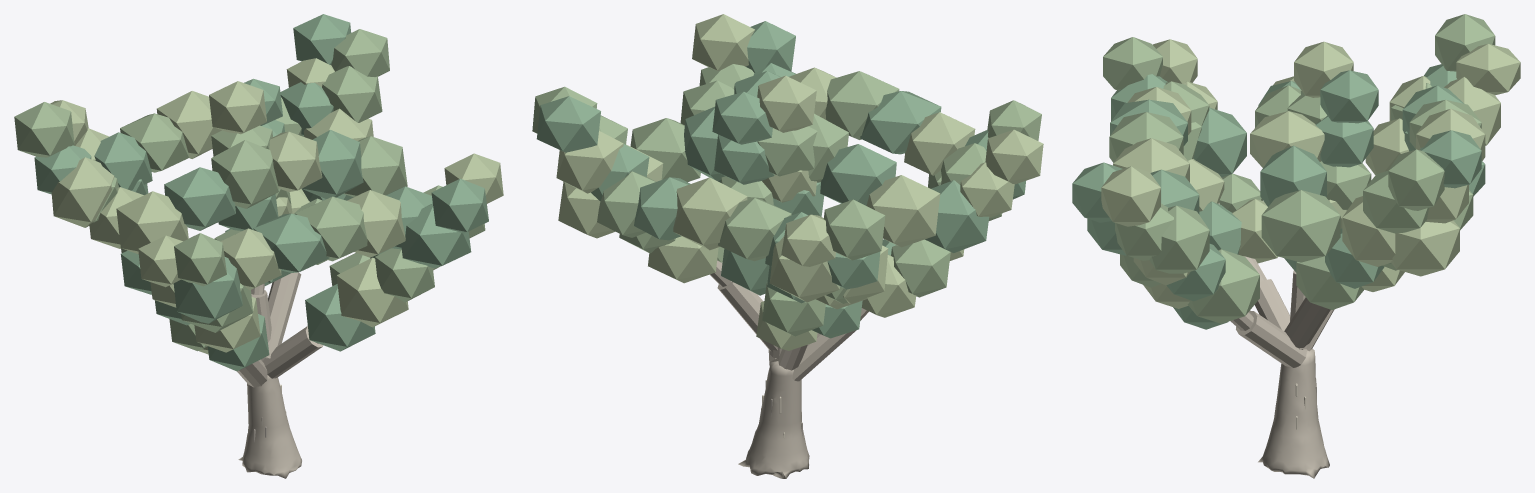
Rendered from plane-tree-c.glb.
3 views of the same model, side by side, from view 1: azimuth 30°, elevation 25°; view 2: azimuth 150°, elevation 25°; view 3: azimuth 270°, elevation 25° (orthographic). The views are drawn at different scales.
Parts seen in each view (by area): view 1: plane-tree-c; view 2: plane-tree-c; view 3: plane-tree-c.
Boxes of the visible parts, x1,y1,x2,y2 form: plane-tree-c: [14, 14, 503, 478]; plane-tree-c: [532, 14, 1043, 478]; plane-tree-c: [1072, 14, 1520, 478].
Bounding box in the file's own units: 9.02 × 9.11 × 8.99.
